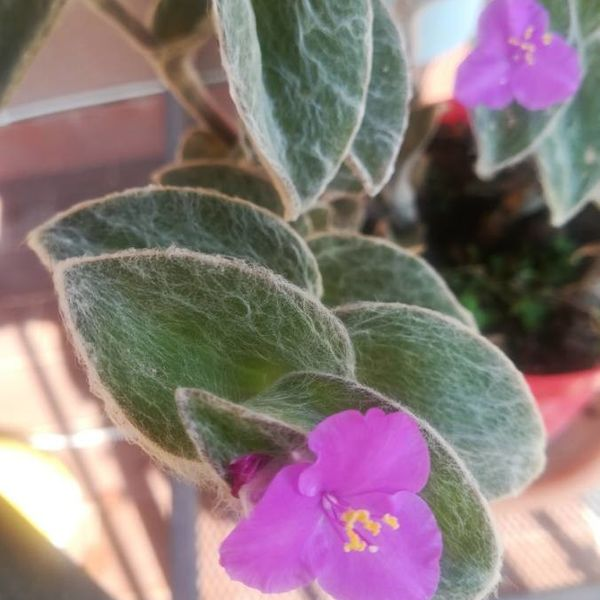obstacle: (54, 132, 567, 577)
